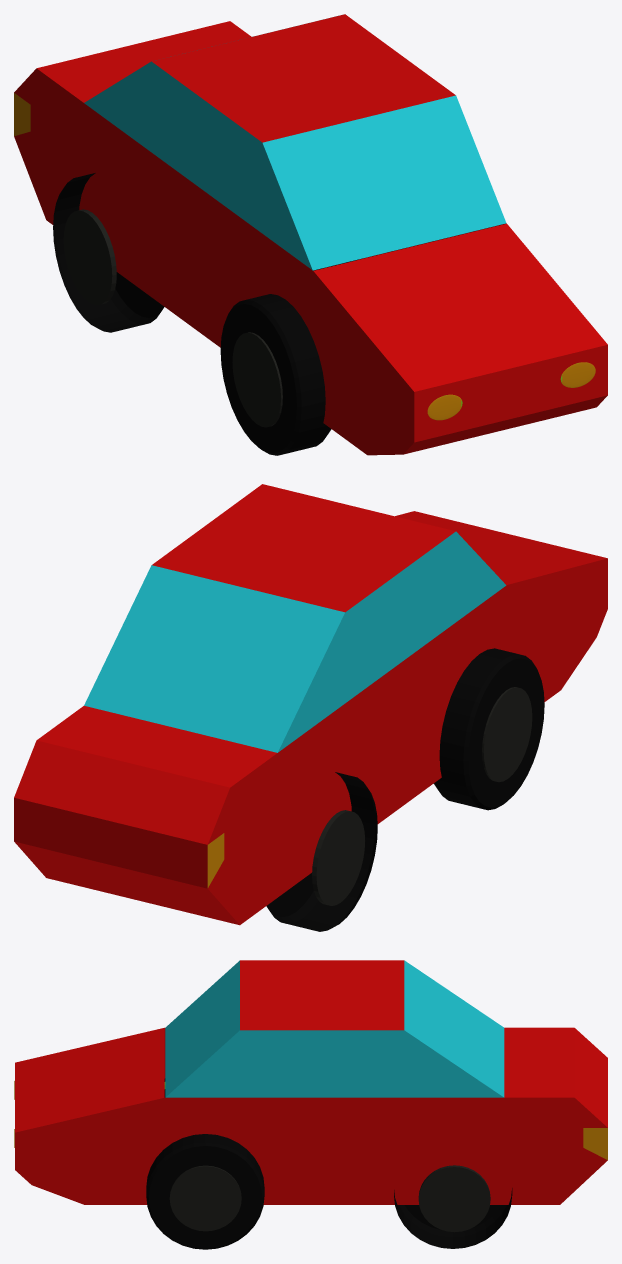
File: Car.obj
3 renders of one model, top to bottom at view 1: azimuth 30°, elevation 25°; view 2: azimuth 150°, elevation 25°; view 3: azimuth 270°, elevation 25°, orthographic. The views are drawn at different scales.
Parts seen in each view (by area): view 1: Cubo; view 2: Cubo; view 3: Cubo.
Part boxes in pixels (x1=…): Cubo: x1=14, y1=14, x2=607, y2=455; Cubo: x1=14, y1=484, x2=607, y2=931; Cubo: x1=14, y1=960, x2=607, y2=1249.
Bounding box in the file's own units: 3.66 × 3.93 × 10.04.
